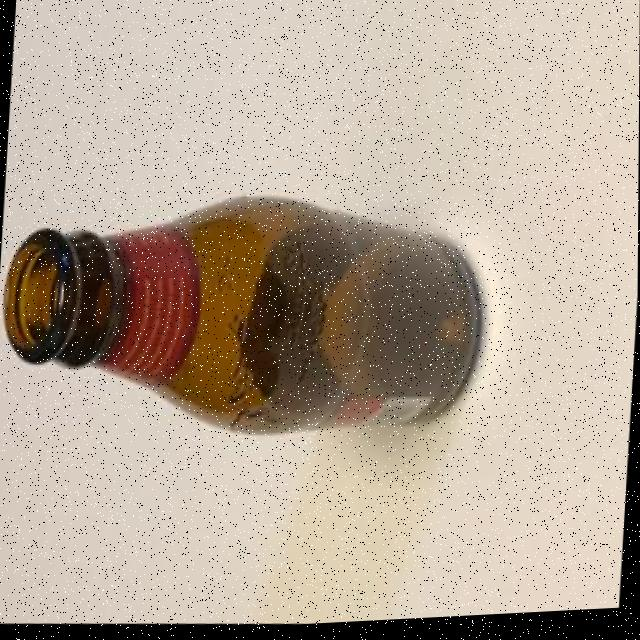glass: (0, 160, 502, 464)
